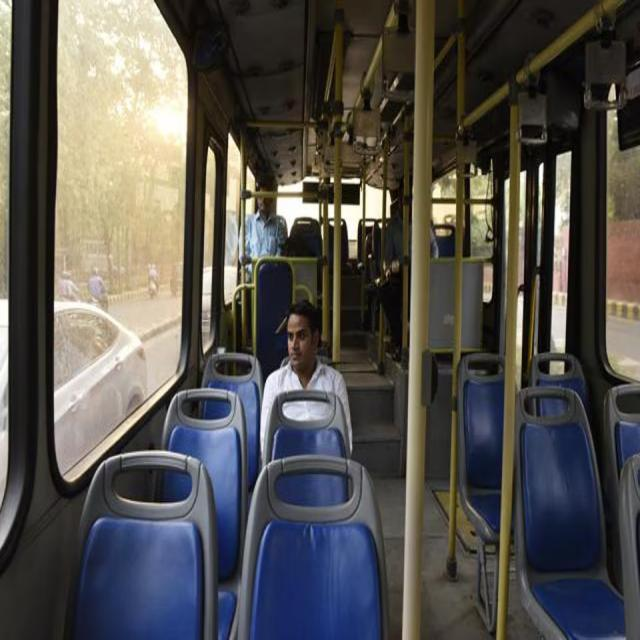empty-seat-frontal: (511, 385, 628, 640)
